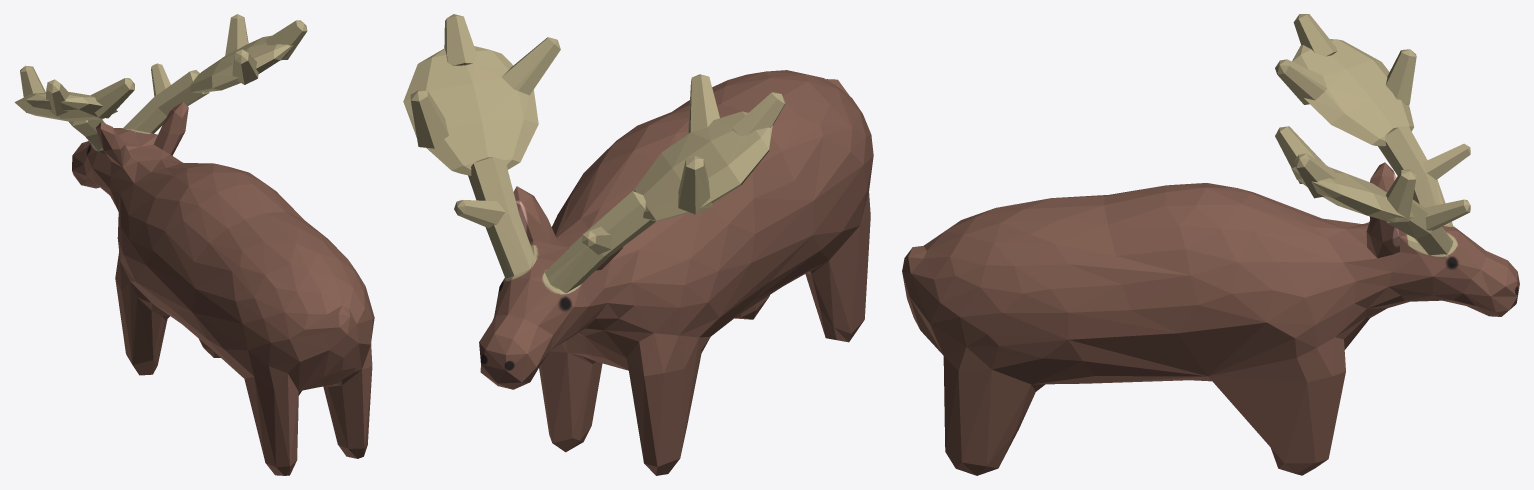
File: animal_moose_male_blob.obj
3 views of the same model, side by side, from view 1: azimuth 30°, elevation 25°; view 2: azimuth 150°, elevation 25°; view 3: azimuth 270°, elevation 25° (orthographic). The views are drawn at different scales.
Visible parts, largest first — view 1: animal_moose_male_blob; view 2: animal_moose_male_blob; view 3: animal_moose_male_blob.
Part boxes in pixels (left/top/right/bottom): animal_moose_male_blob: left=14, top=14, right=374, bottom=475; animal_moose_male_blob: left=403, top=14, right=873, bottom=475; animal_moose_male_blob: left=902, top=14, right=1519, bottom=475.
Size of the model in its own units: 1.16 by 1.3 by 1.96.
